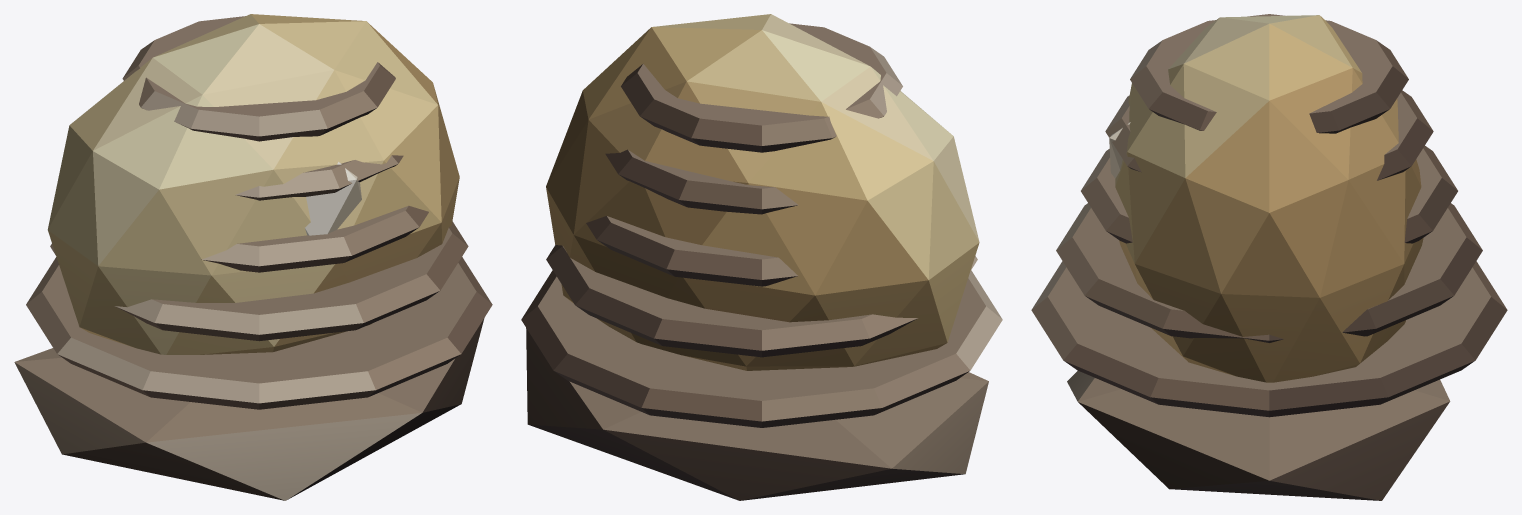
Rendered from fossil.glb.
3 views of the same model, side by side, from view 1: azimuth 30°, elevation 25°; view 2: azimuth 150°, elevation 25°; view 3: azimuth 270°, elevation 25° (orthographic). The views are drawn at different scales.
Visible parts, largest first — view 1: fossil; view 2: fossil; view 3: fossil.
Boxes of the visible parts, left/top/right/bottom form: fossil: left=14, top=14, right=492, bottom=500; fossil: left=521, top=14, right=1002, bottom=500; fossil: left=1031, top=14, right=1507, bottom=500.
Bounding box in the file's own units: 0.6181 × 0.545 × 0.58.
